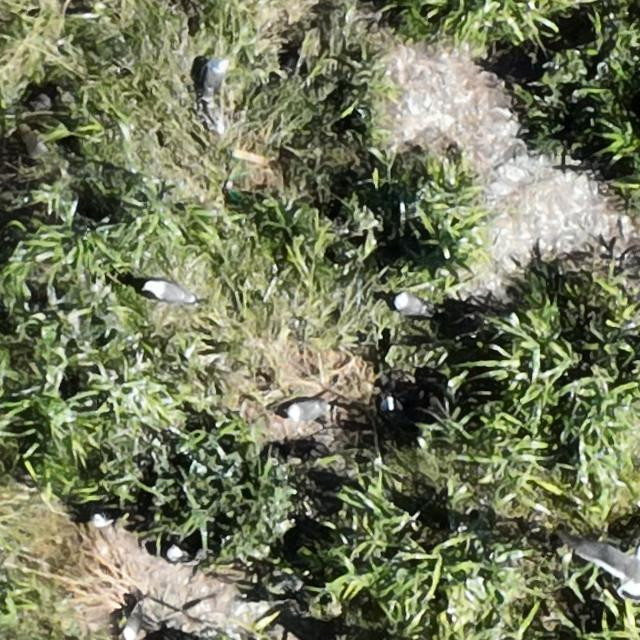F: (570, 537, 638, 599)
umineko: (198, 56, 228, 102), (145, 283, 192, 304), (285, 400, 327, 421), (393, 294, 427, 315), (166, 546, 197, 562), (122, 613, 139, 638)
